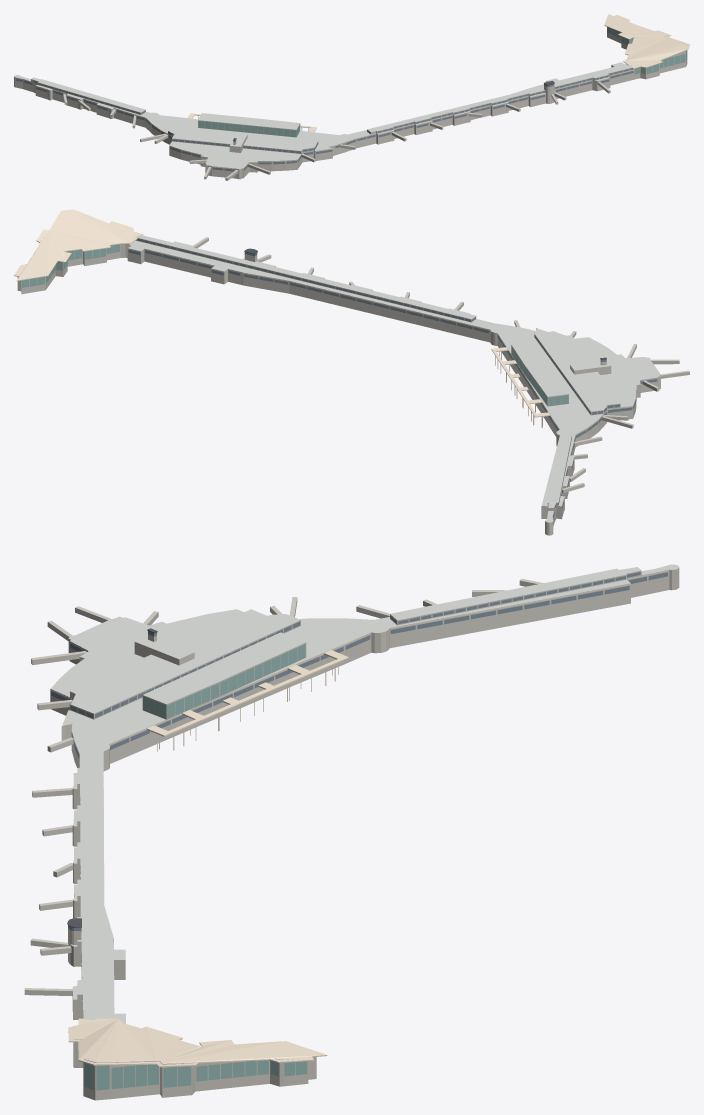
Rendered from chi-ohare-terminal-5.glb.
3 renders of one model, top to bottom at view 1: azimuth 30°, elevation 25°; view 2: azimuth 150°, elevation 25°; view 3: azimuth 270°, elevation 25°, orthographic. The views are drawn at different scales.
Parts seen in each view (by area): view 1: O'Hare Terminal 5; view 2: O'Hare Terminal 5; view 3: O'Hare Terminal 5.
Boxes of the visible parts, x1,y1,x2,y2 form: O'Hare Terminal 5: (14, 14, 689, 180); O'Hare Terminal 5: (14, 209, 689, 535); O'Hare Terminal 5: (24, 564, 679, 1100).
Size of the model in its own units: 889 by 33.8 by 475.
